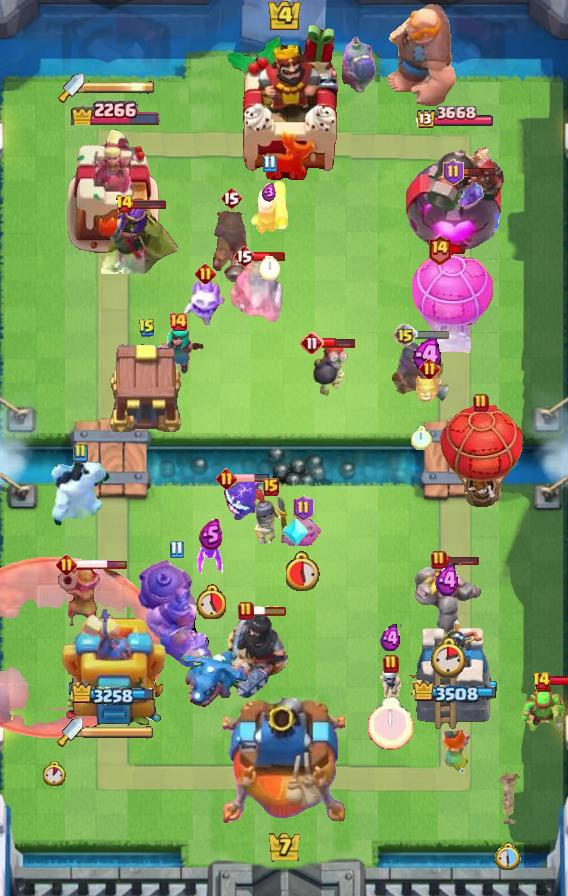bar: (74, 559, 128, 570), (461, 166, 498, 178), (252, 605, 288, 617), (131, 198, 167, 210), (322, 337, 355, 349), (445, 555, 480, 566), (415, 329, 450, 340), (252, 251, 286, 262), (234, 473, 270, 483), (549, 675, 568, 686), (450, 244, 467, 255)
bar-level: (427, 234, 452, 265), (300, 331, 324, 355), (393, 323, 417, 347), (293, 495, 314, 521), (443, 159, 464, 185), (233, 244, 255, 268), (220, 186, 242, 210), (56, 554, 77, 575), (216, 468, 237, 489), (419, 358, 440, 379), (195, 263, 216, 284), (168, 312, 188, 332), (532, 671, 551, 691), (115, 194, 134, 214), (138, 318, 156, 338), (383, 654, 399, 674), (238, 601, 254, 621), (431, 550, 447, 570), (72, 443, 88, 463), (473, 393, 489, 413), (263, 478, 279, 496), (169, 540, 184, 559), (262, 154, 277, 173)
bat-evolution: (196, 531, 226, 575), (454, 176, 484, 208)
bomber: (313, 343, 349, 397)
bomber-evolution: (339, 28, 377, 96)
cannoneer-tower: (402, 136, 504, 256)
clock: (368, 697, 414, 750), (430, 636, 466, 678), (286, 551, 321, 591), (196, 584, 226, 619), (495, 842, 522, 871), (43, 761, 66, 786), (259, 256, 280, 281), (411, 426, 432, 450)
dagger-duchess-tower: (62, 601, 166, 731), (64, 124, 164, 256)
dagger-duchess-tower-bar: (83, 725, 155, 739), (84, 80, 156, 94)
dirt: (495, 772, 521, 824)
electro-dragon: (178, 645, 248, 709)
electro-spirit: (221, 478, 263, 524)
elixir: (412, 339, 446, 371), (435, 563, 461, 598), (199, 519, 223, 550), (380, 624, 402, 653), (262, 183, 276, 202)
firecracker: (248, 178, 290, 236)
golemite: (412, 565, 484, 637)
guard: (252, 487, 290, 545)
heal-spirit: (283, 511, 323, 549)
ice-spirit-evolution: (183, 273, 227, 327)
ice-spirit-evolution-symbol: (281, 516, 309, 548)
king-tower: (224, 23, 344, 181), (223, 698, 345, 826)
lava-pup: (413, 370, 445, 404)
musketeer: (390, 339, 452, 403), (58, 562, 100, 632), (212, 208, 250, 284)
queen-tower: (409, 616, 497, 731)
rascal-girl: (151, 325, 205, 377)
royal-ghost: (228, 259, 286, 327)
skeleton: (377, 667, 405, 701)
spear-goblin: (520, 685, 568, 735)
tower-bar: (68, 94, 160, 125), (71, 682, 157, 708), (411, 680, 496, 704), (414, 106, 493, 131)
valkyrie: (438, 725, 476, 777)
